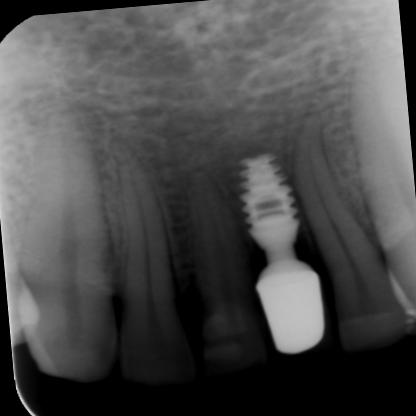Bicon: (232, 150, 309, 258)
